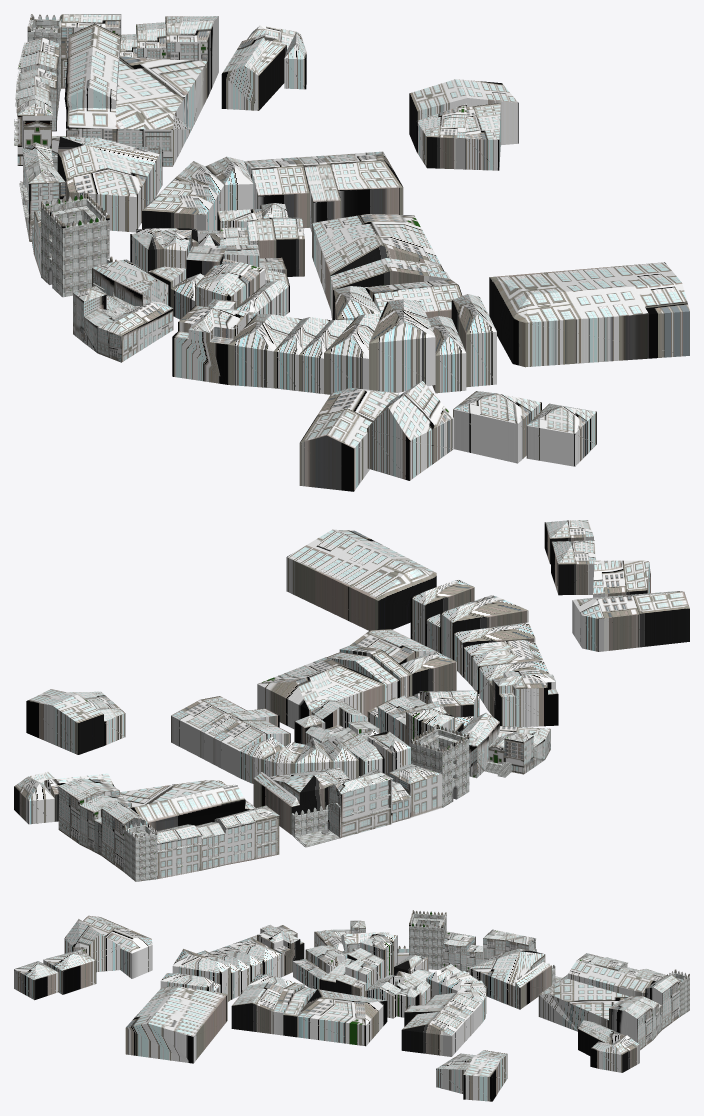
Rendered from simpleV.obj.
3 renders of one model, top to bottom at view 1: azimuth 30°, elevation 25°; view 2: azimuth 150°, elevation 25°; view 3: azimuth 270°, elevation 25°, orthographic. The views are drawn at different scales.
Bounding box in the file's own units: 128 × 19.51 × 233.
1 material, 1 textured.
